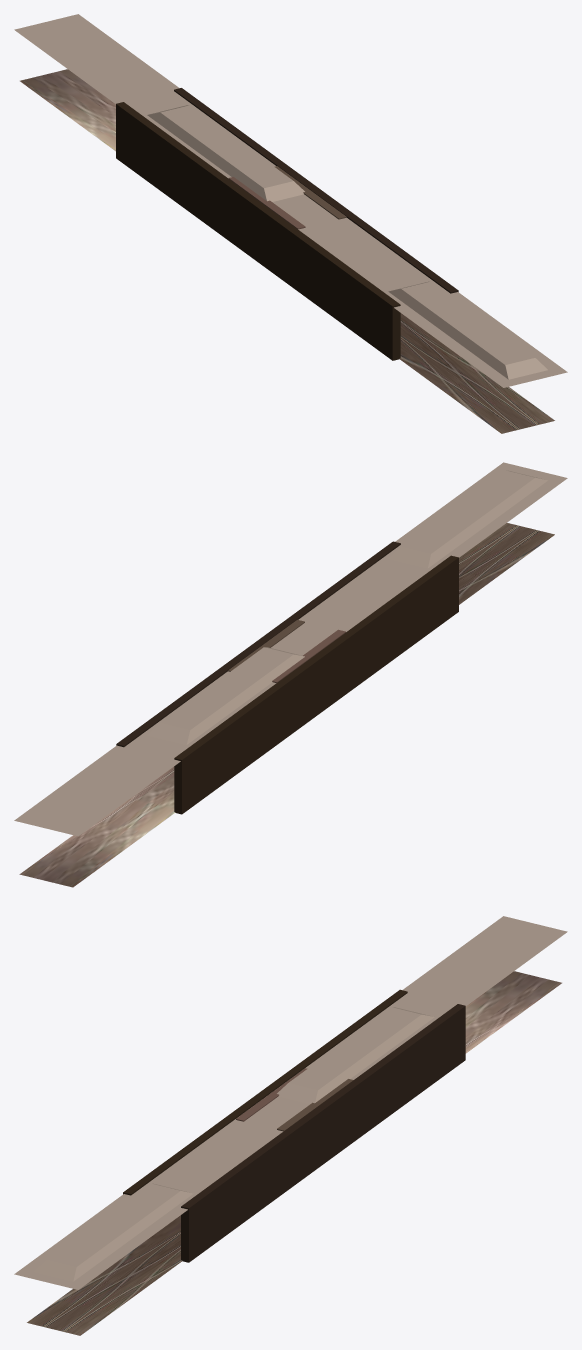
The model's file is to make map for game.glb.
The picture shows the model from 3 angles, top to bottom: view 1: azimuth 30°, elevation 25°; view 2: azimuth 150°, elevation 25°; view 3: azimuth 330°, elevation 25°; orthographic projection.
Parts seen in each view (by area): view 1: roof, bigwall, floor, big wall, small wall; view 2: roof, bigwall, floor, big wall, small wall; view 3: roof, big wall, floor, bigwall.
Part boxes in pixels (left/top/right/bottom): roof: left=14, top=14, right=567, bottom=387; bigwall: left=116, top=102, right=400, bottom=360; floor: left=20, top=69, right=554, bottom=433; big wall: left=174, top=88, right=458, bottom=293; small wall: left=228, top=177, right=305, bottom=229; roof: left=14, top=462, right=567, bottom=836; bigwall: left=174, top=555, right=458, bottom=814; floor: left=19, top=523, right=554, bottom=887; big wall: left=116, top=541, right=400, bottom=747; small wall: left=272, top=629, right=345, bottom=682; roof: left=14, top=916, right=567, bottom=1289; big wall: left=181, top=1004, right=465, bottom=1262; floor: left=27, top=971, right=561, bottom=1335; bigwall: left=123, top=989, right=407, bottom=1195.
Size of the model in its own units: 7.88 by 6.97 by 102.
12 materials, 2 textured.
